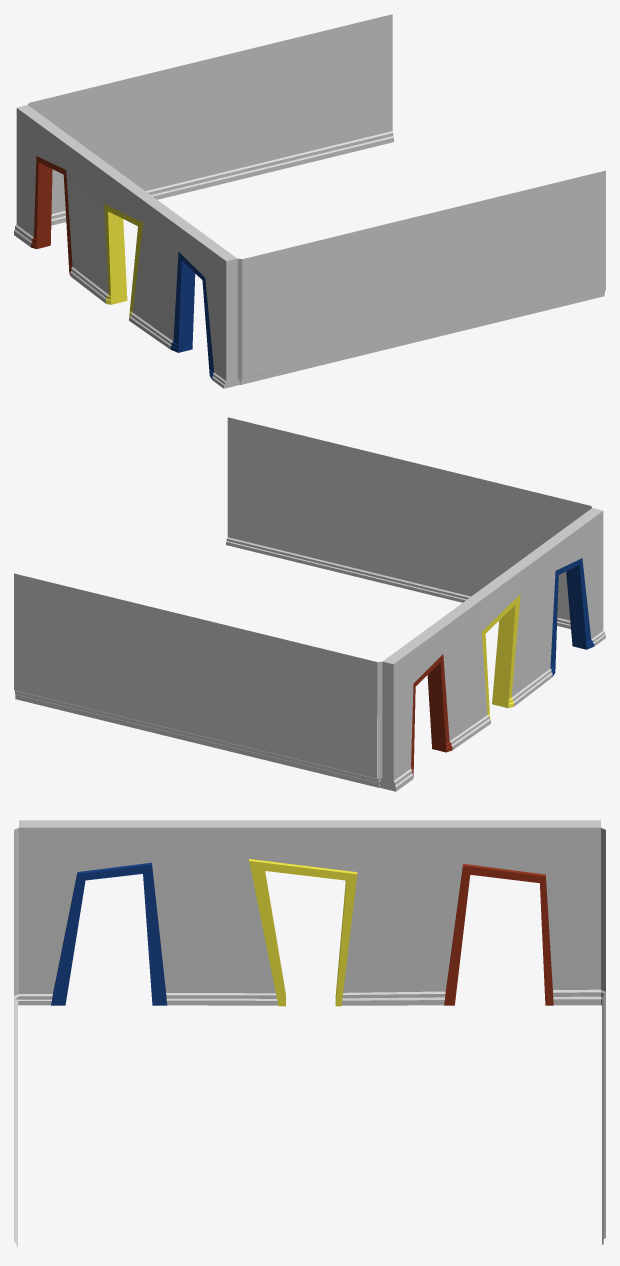
Rendered from Mur_V3.fbx.
The picture shows the model from 3 angles, top to bottom: view 1: azimuth 30°, elevation 25°; view 2: azimuth 150°, elevation 25°; view 3: azimuth 270°, elevation 25°; orthographic projection. The views are drawn at different scales.
Parts seen in each view (by area): view 1: Mur.côté_V3, Mur_Porte_V3; view 2: Mur.côté_V3, Mur_Porte_V3; view 3: Mur_Porte_V3, Mur.côté_V3.
Part boxes in pixels (x1,y1,x2,y2): Mur.côté_V3: [29, 14, 605, 384]; Mur_Porte_V3: [14, 103, 242, 388]; Mur.côté_V3: [14, 417, 590, 787]; Mur_Porte_V3: [377, 506, 605, 791]; Mur_Porte_V3: [14, 820, 605, 1006]; Mur.côté_V3: [14, 992, 605, 1246].
Bounding box in the file's own units: 1575 × 500 × 1526.
